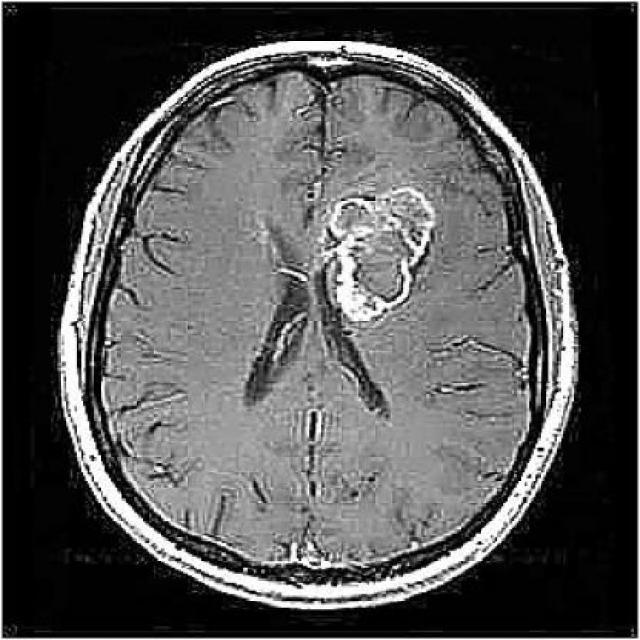Brain-Tumor: (325, 180, 445, 326)
